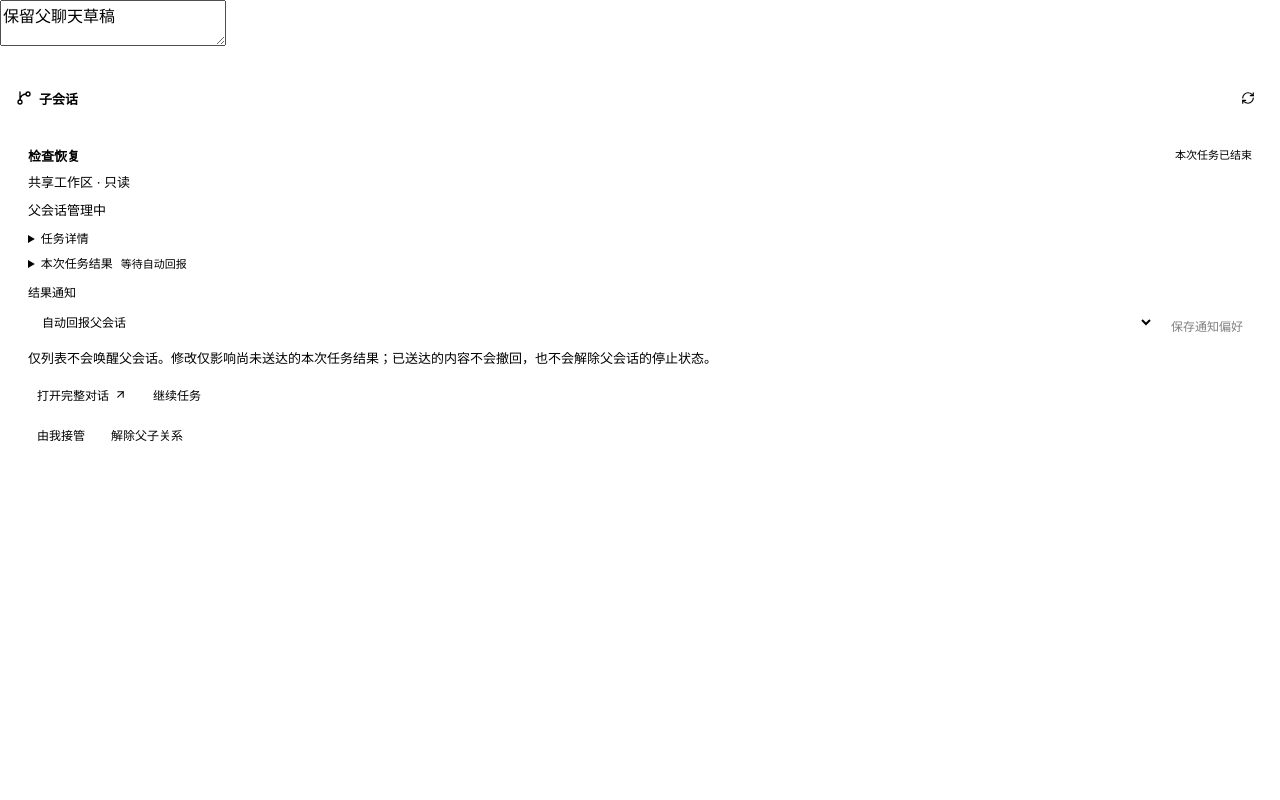
refreshes a conflicting control revision before allowing another confirmation
Click the button "由我接管" at [61, 434], box 28,420 -> 94,448
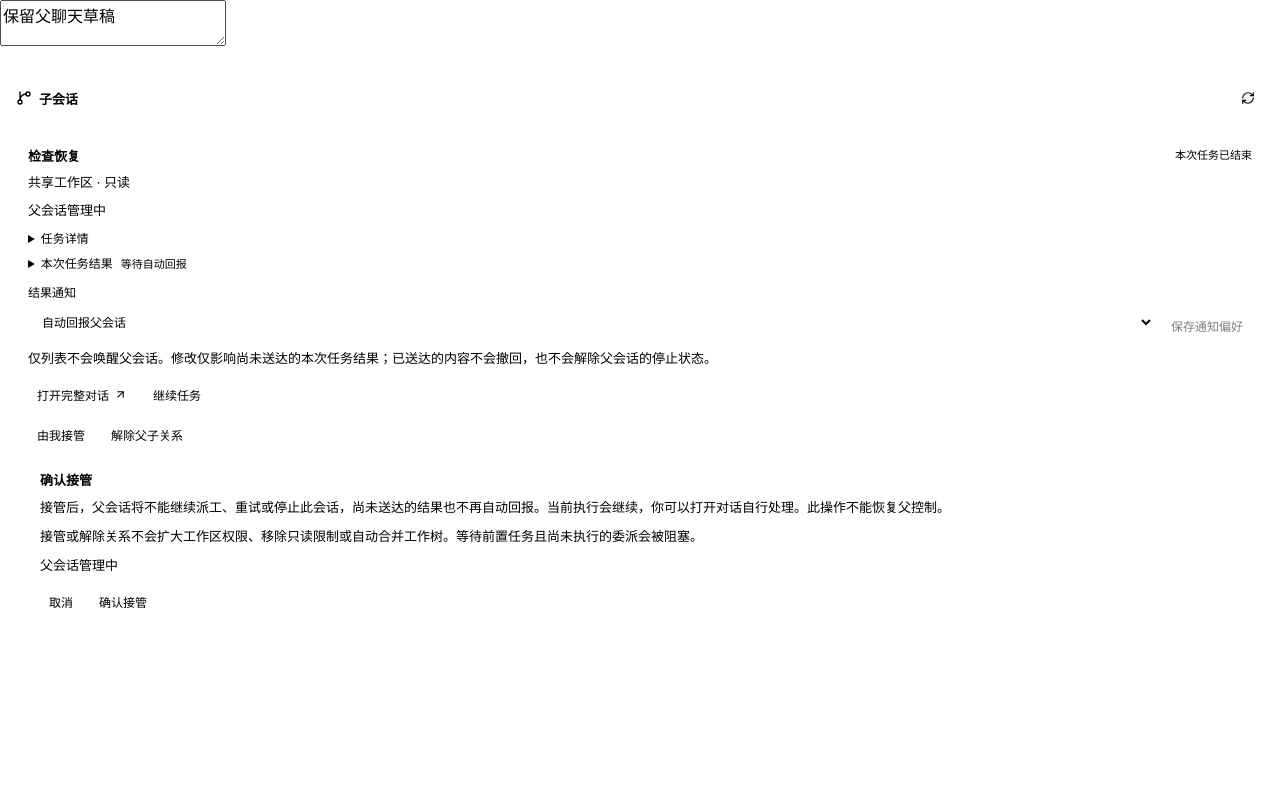
Expected: the button "确认接管" is enabled
Click the button "确认接管" at [123, 602], box 90,588 -> 156,616
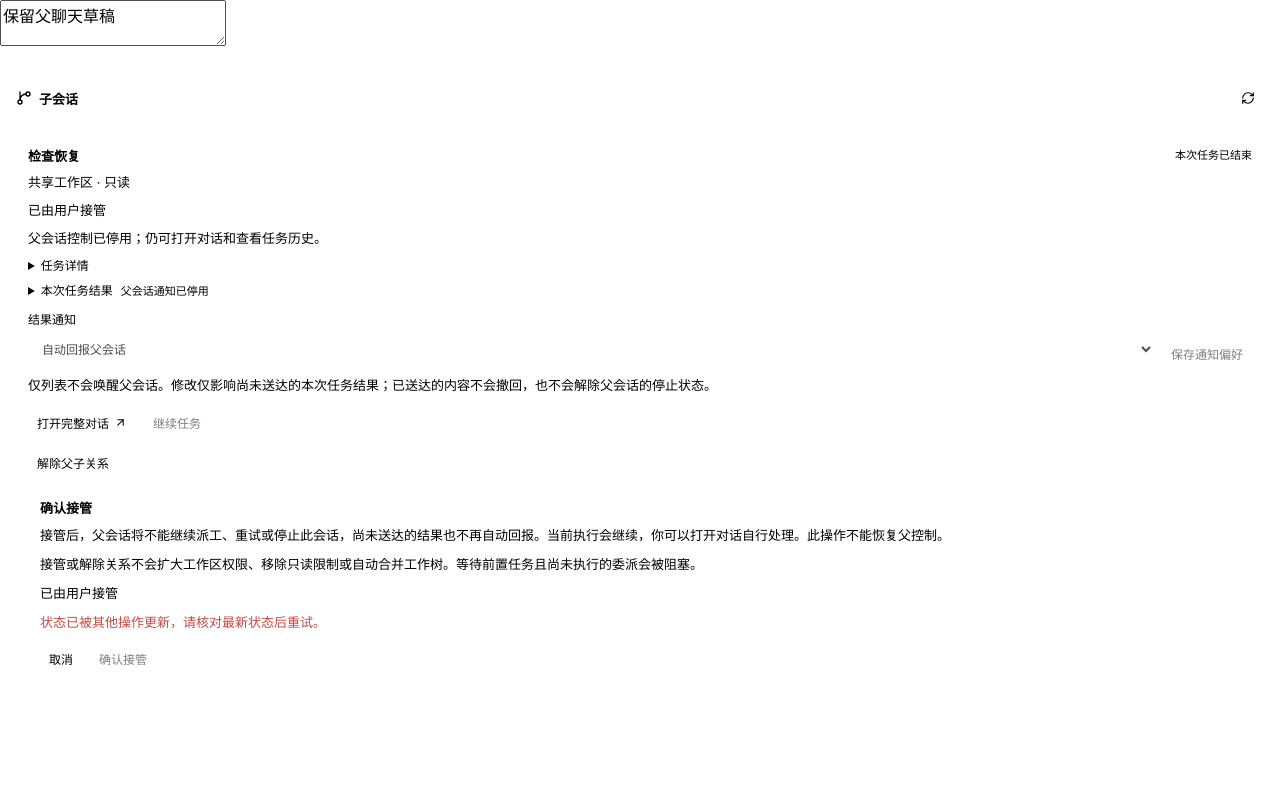
Expected: the text "状态已被其他操作更新，请核对最新状态后重试。" is shown, 40,614 -> 326,630
Expected: the button "确认接管" is disabled, 90,644 -> 156,672
Expected: the button "继续任务" is disabled, 144,408 -> 210,436
